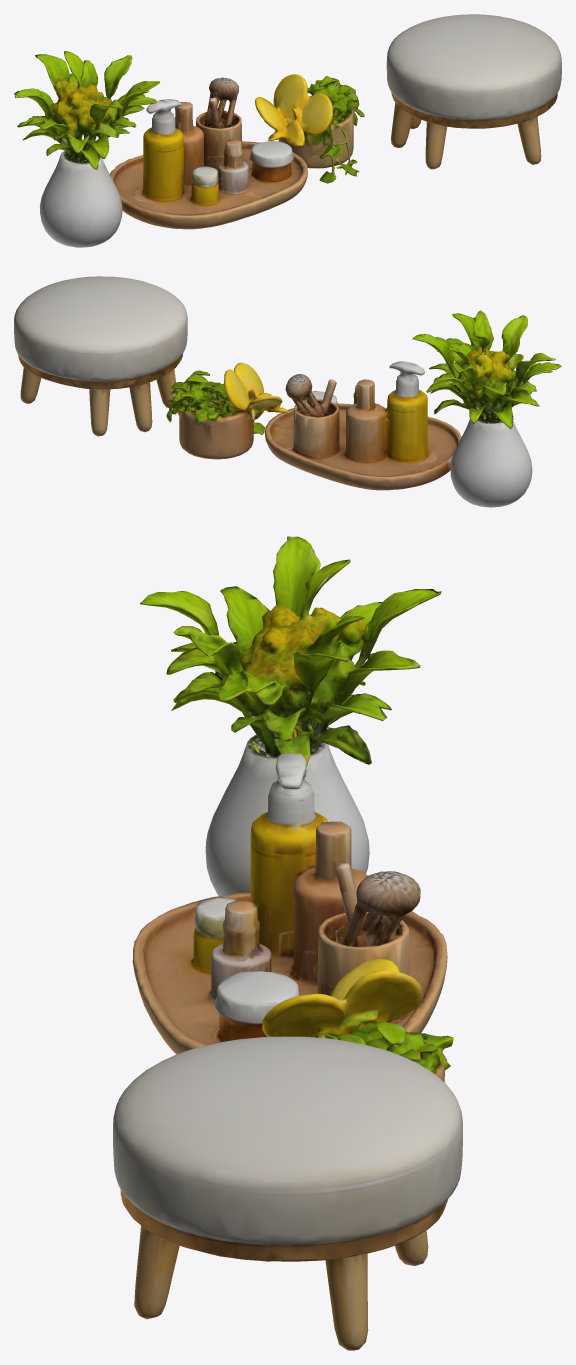
File: makyajaksesuarı.fbx
3 views of the same model, one above another, from view 1: azimuth 30°, elevation 25°; view 2: azimuth 150°, elevation 25°; view 3: azimuth 270°, elevation 25° (orthographic). The views are drawn at different scales.
Parts seen in each view (by area): view 1: Mesh_0.002, Mesh_0.003, Mesh_0.001, Mesh_0.004; view 2: Mesh_0.002, Mesh_0.003, Mesh_0.001, Mesh_0.004; view 3: Mesh_0.002, Mesh_0.003, Mesh_0.001, Mesh_0.004.
Boxes of the visible parts, x1,y1,x2,y2 form: Mesh_0.002: (386, 14, 561, 169); Mesh_0.003: (109, 77, 307, 229); Mesh_0.001: (14, 51, 159, 247); Mesh_0.004: (255, 74, 364, 183); Mesh_0.002: (14, 276, 187, 436); Mesh_0.003: (265, 361, 461, 490); Mesh_0.001: (412, 310, 561, 507); Mesh_0.004: (166, 362, 289, 459); Mesh_0.002: (113, 1036, 462, 1350); Mesh_0.003: (132, 753, 447, 1054); Mesh_0.001: (140, 536, 441, 896); Mesh_0.004: (262, 959, 453, 1082).
Size of the model in its own units: 191 by 60.72 by 54.63.
1 material, 1 textured.
